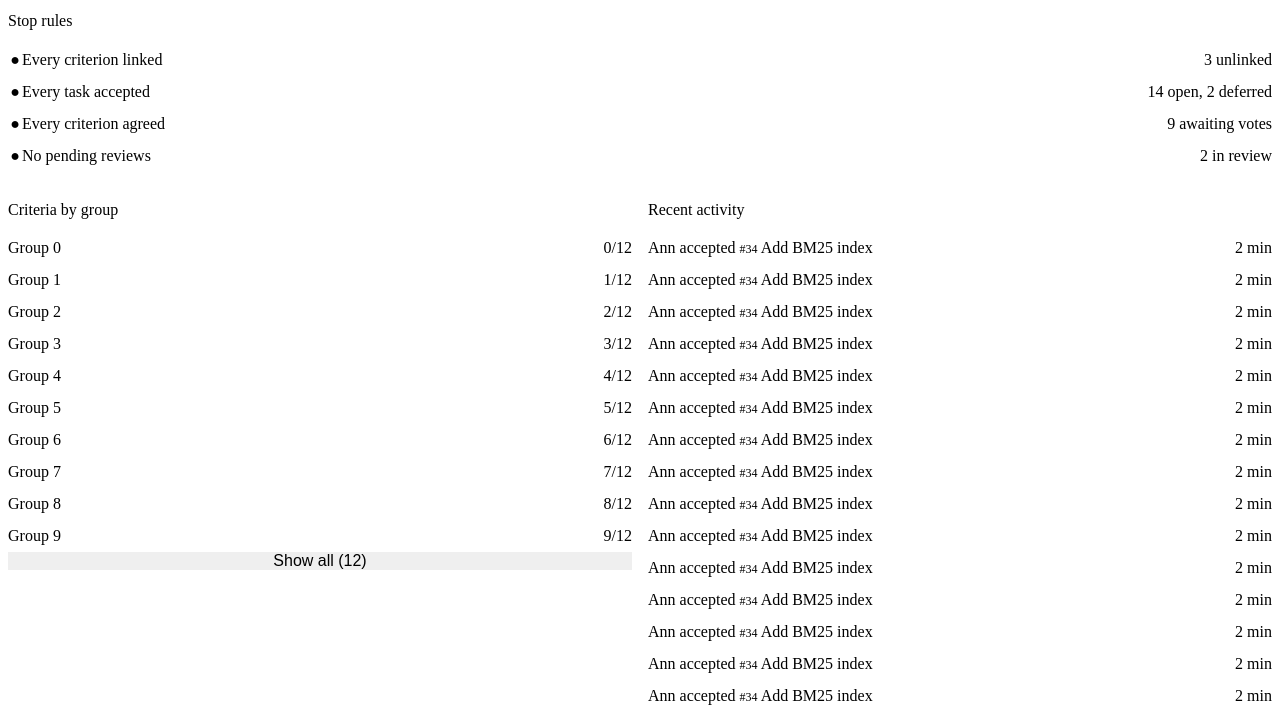
sorts groups by completion, expands after ten and limits activity to fifteen
(page scrolled)
Check: the link "Group 0 0/12" is shown, box [8,239,632,256]
Step 1. Click the button "Show all (12)" → (320, 561), box [8,552,632,570]
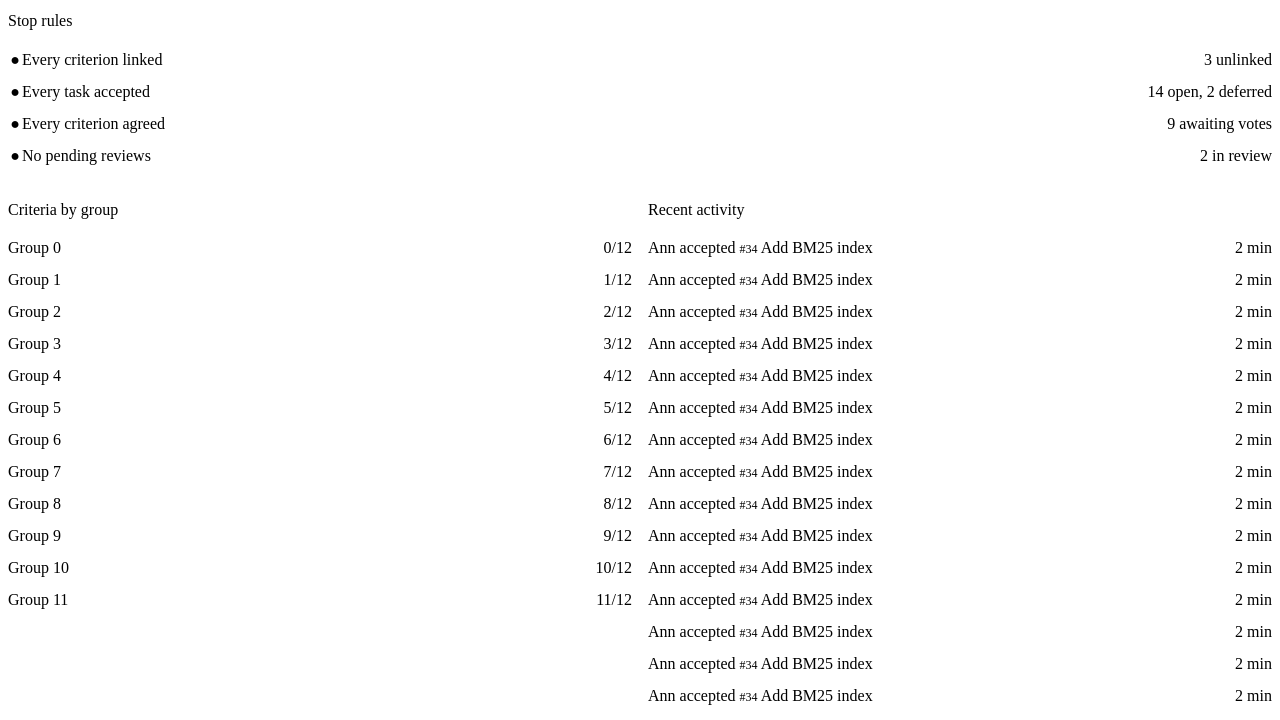
Check: the button "Show all (12)" is gone
